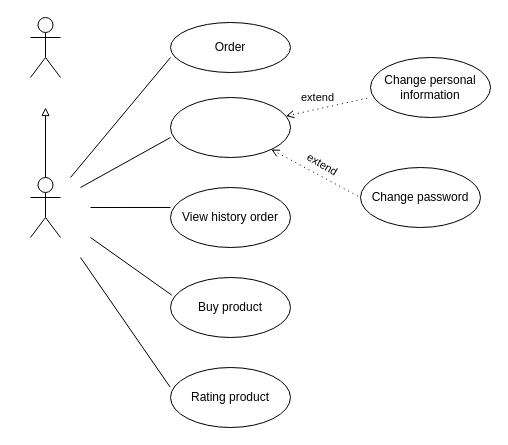
Some shapes in this 508 by 445 pixel diagram are drawn without their labels. The shapes that lost their labels are listed below. From the top down, each one's centre as x and y in pixels, then its label:
At pixel 45 47: "Passersby".
At pixel 230 127: "Update personal information".
At pixel 45 207: "Customer".
